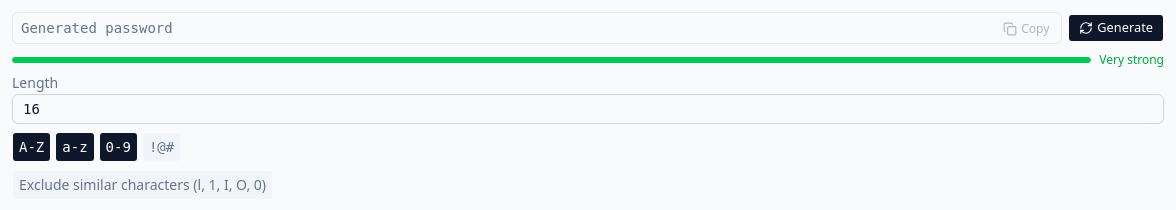
Scenario: PasswordGeneratorWidget › lets the length be reduced by backspacing and retyping a smaller number
The image size is (1176, 210).
Replace the text in the number field labelled "Length" with "5" at {"x": 588, "y": 109}, box [12, 94, 1164, 124]
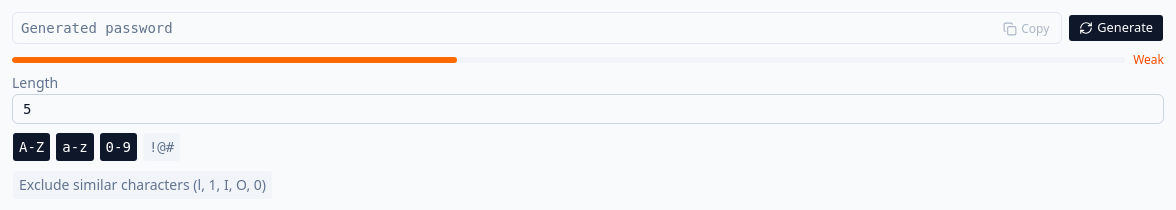
Click the number field labelled "Length" at {"x": 588, "y": 109}, box [12, 94, 1164, 124]
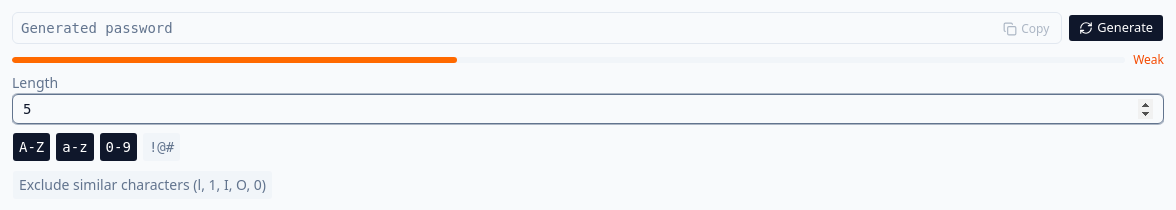
Type keys "{End}{Backspace}4"
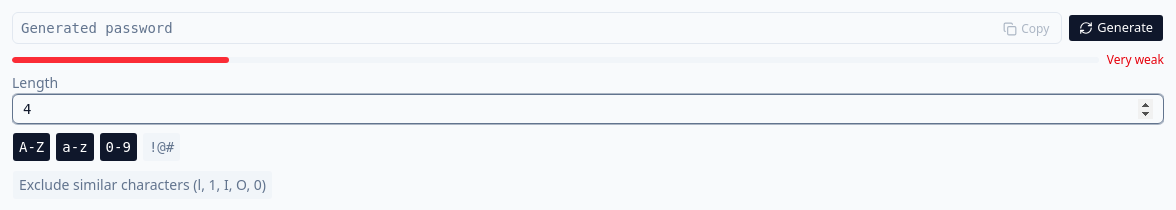
Now the number field labelled "Length" holds "4", box [12, 94, 1164, 124]
